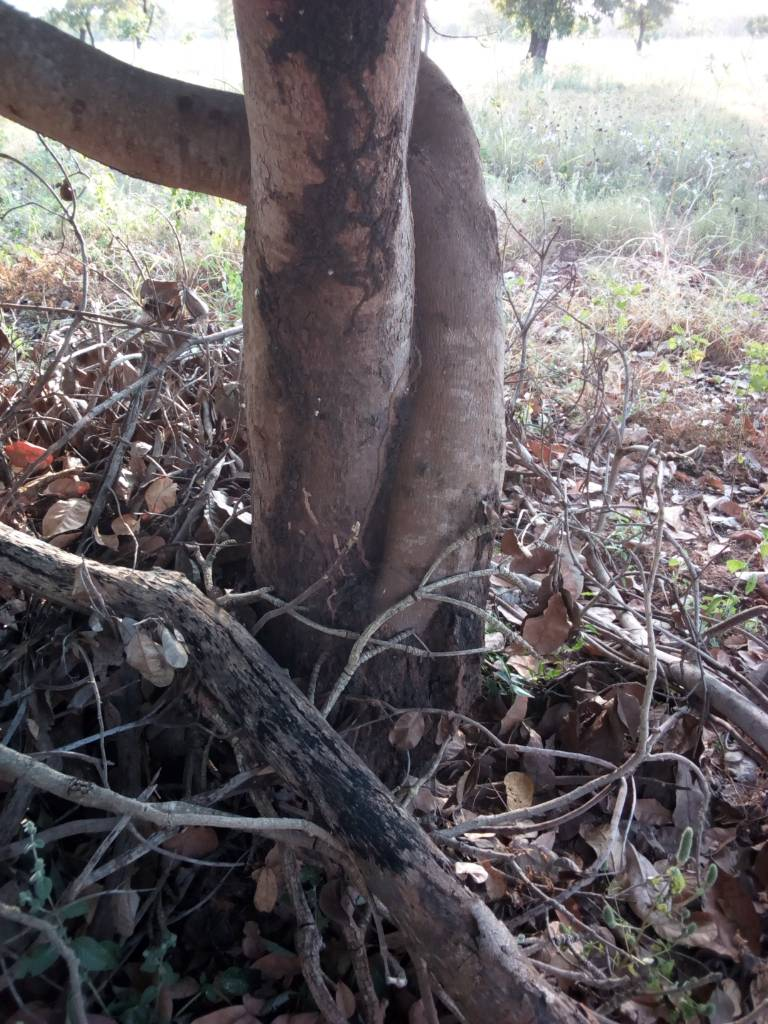Termites: (285, 7, 400, 336), (260, 307, 324, 555)
